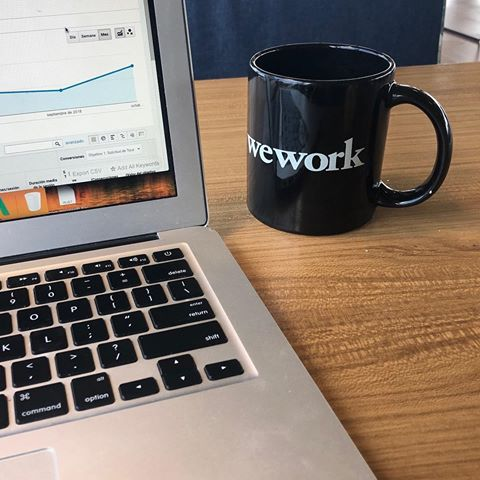wework: (246, 129, 366, 173)
